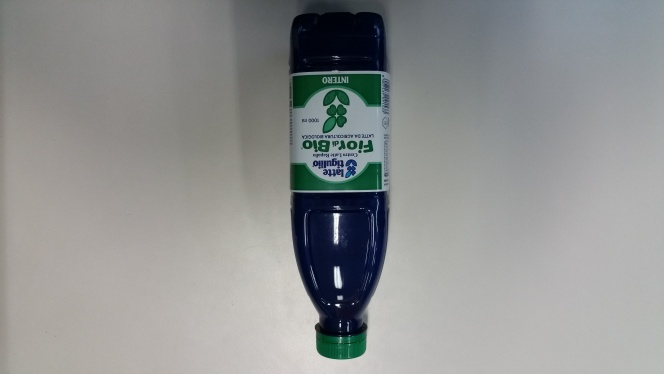bottle: (281, 12, 388, 365)
